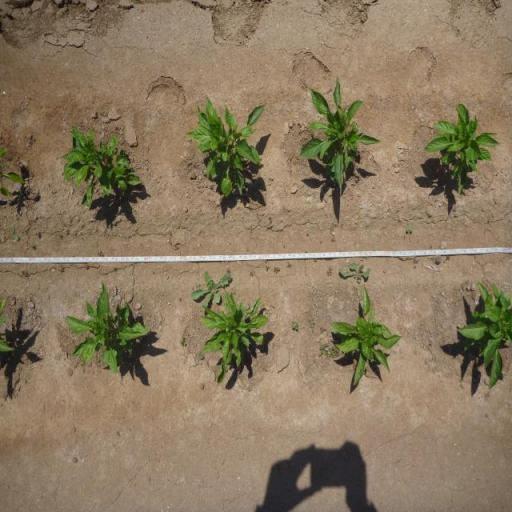plant: (297, 72, 382, 192), (62, 278, 152, 376), (185, 95, 268, 199), (420, 101, 502, 198), (58, 123, 144, 212), (331, 284, 403, 390), (197, 290, 271, 386), (457, 274, 512, 394), (0, 146, 26, 200)
weed: (190, 269, 233, 311), (338, 262, 372, 284), (317, 344, 338, 360), (11, 226, 21, 242), (307, 317, 315, 334), (290, 319, 300, 330), (178, 336, 188, 346), (326, 265, 334, 277), (272, 266, 282, 274), (406, 224, 414, 234), (198, 352, 204, 362), (264, 264, 270, 272), (286, 260, 292, 268), (319, 326, 327, 332), (249, 270, 254, 276)
